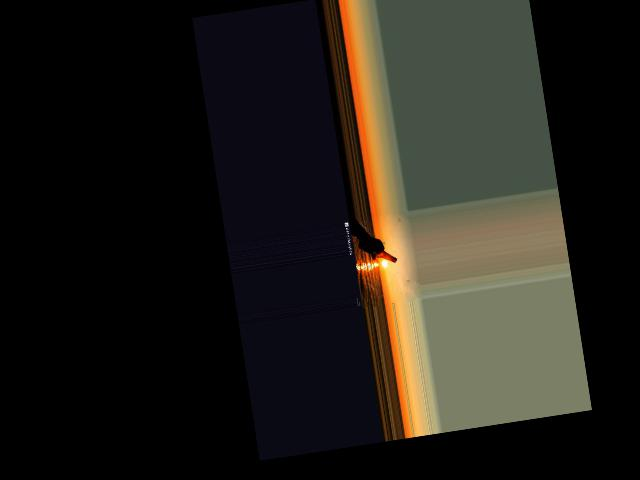beer: (357, 235, 397, 267)
